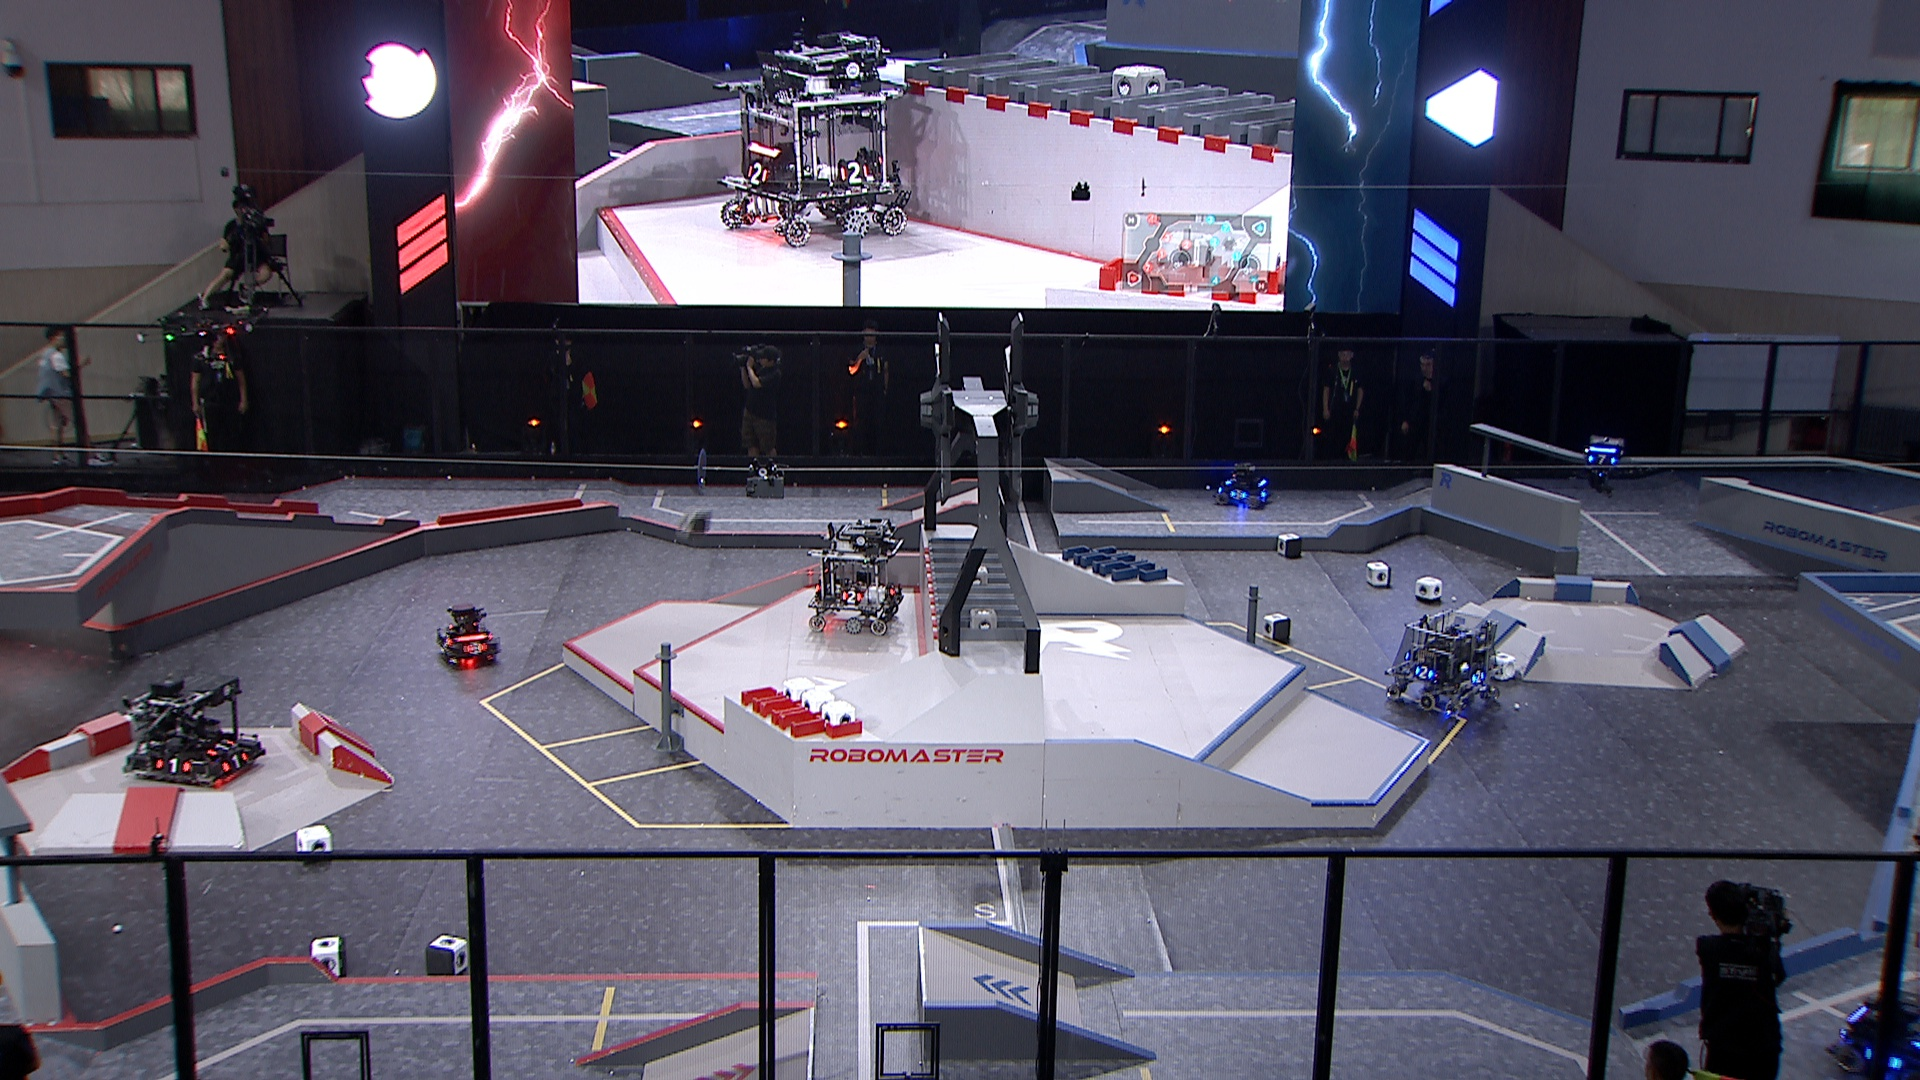armor: (154, 756, 193, 777), (204, 738, 237, 760), (223, 750, 251, 773), (1585, 452, 1617, 465), (1415, 665, 1436, 683), (1468, 669, 1486, 687), (462, 642, 487, 655), (841, 589, 862, 604), (1228, 488, 1247, 501), (439, 636, 455, 651)
car: (120, 676, 269, 787), (1377, 608, 1501, 716), (806, 516, 905, 636), (1822, 986, 1920, 1080), (436, 603, 501, 666), (1211, 462, 1271, 510)
ignore: (713, 32, 913, 248)
watcher: (1578, 434, 1627, 496)
